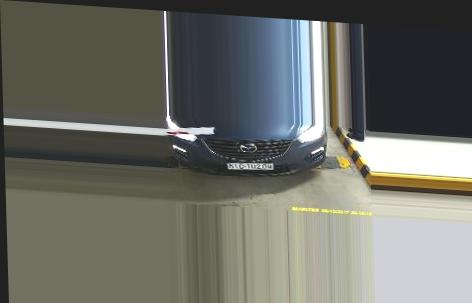License_Plate: (226, 157, 277, 175)
